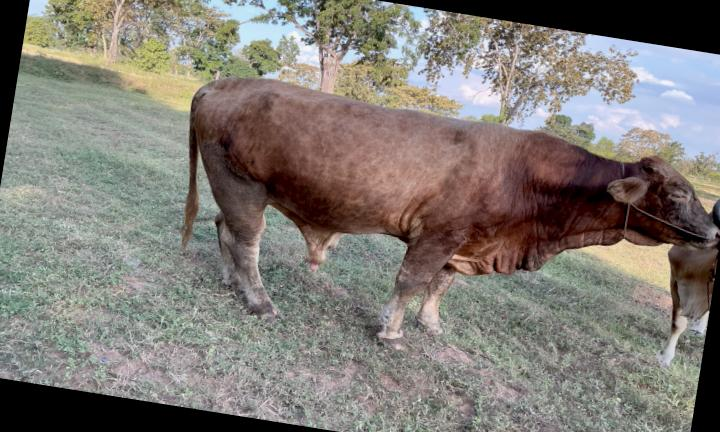Charolais: (183, 78, 720, 347)
